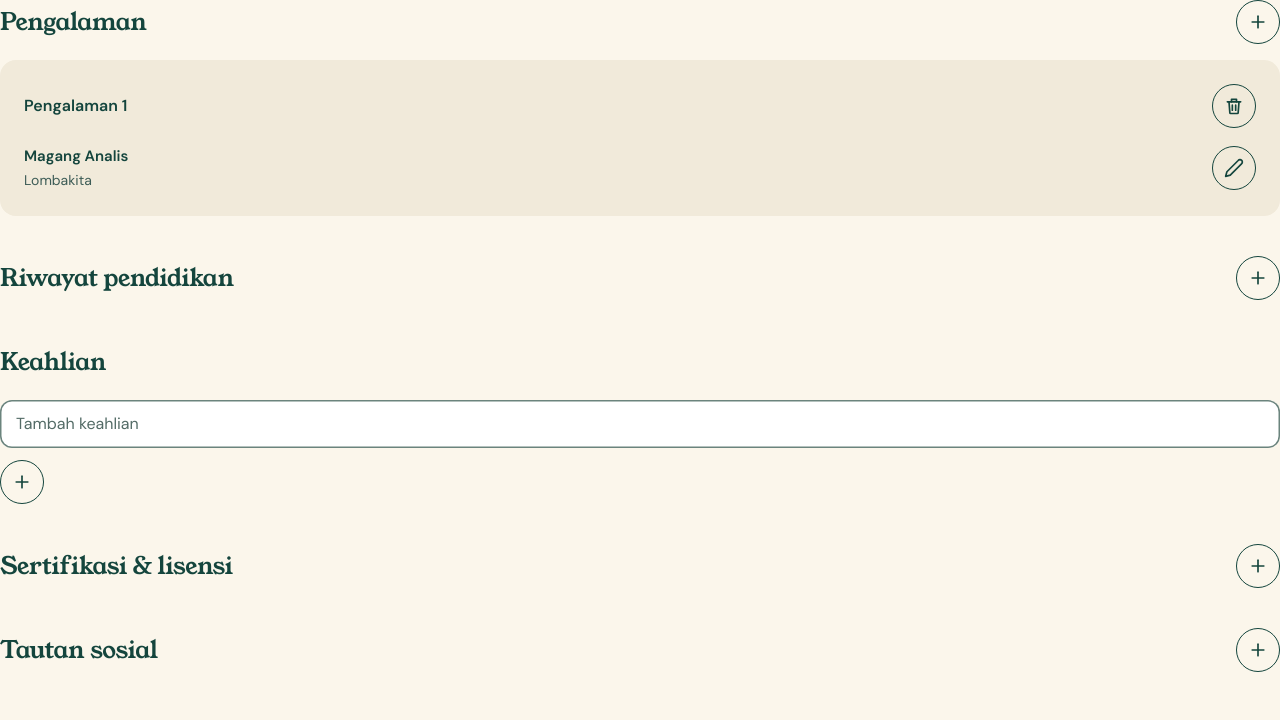
Test: deleting a saved profile entry › keeps the entry and shows the failure inside the pop-up when the server refuses
What coordinates should you click on to do the following:
click the button named "Hapus pengalaman Magang Analis"
I would click on:
 (1234, 106)
Its box is [1212,84,1256,128].
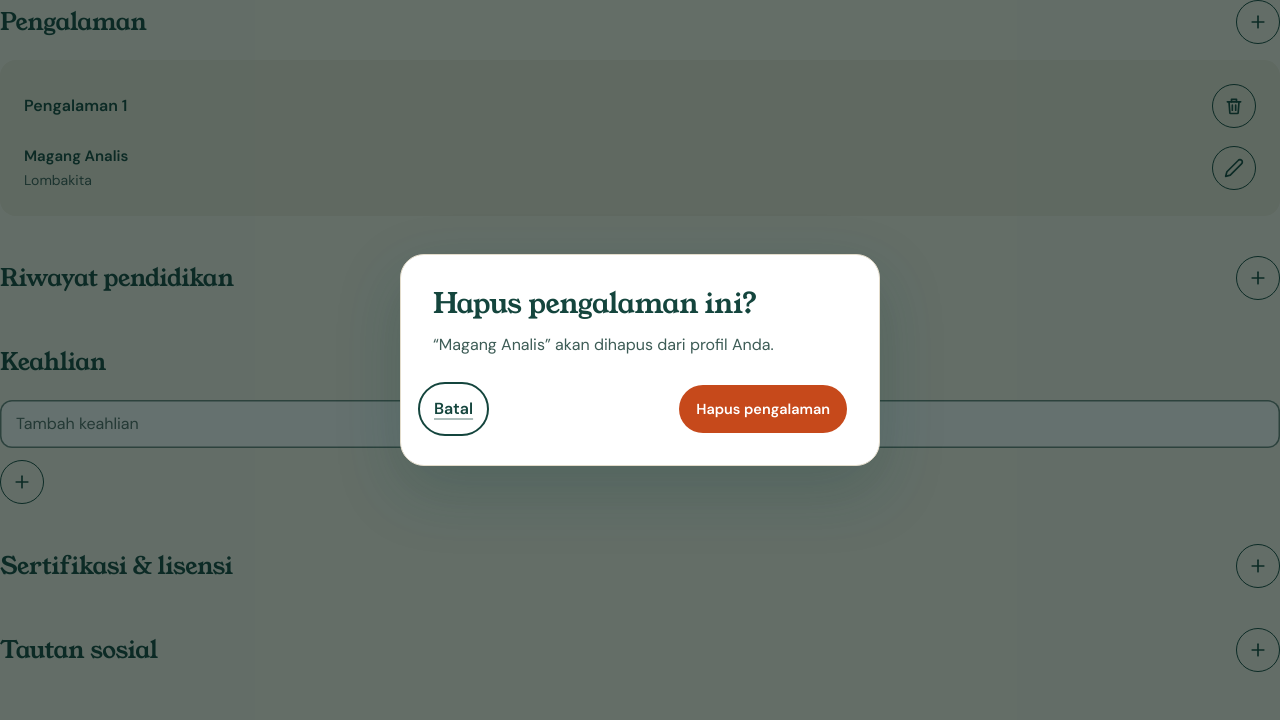
What coordinates should you click on to do the following:
click the button "Hapus pengalaman"
I would click on:
 (763, 409)
Its box is [679,385,847,433].
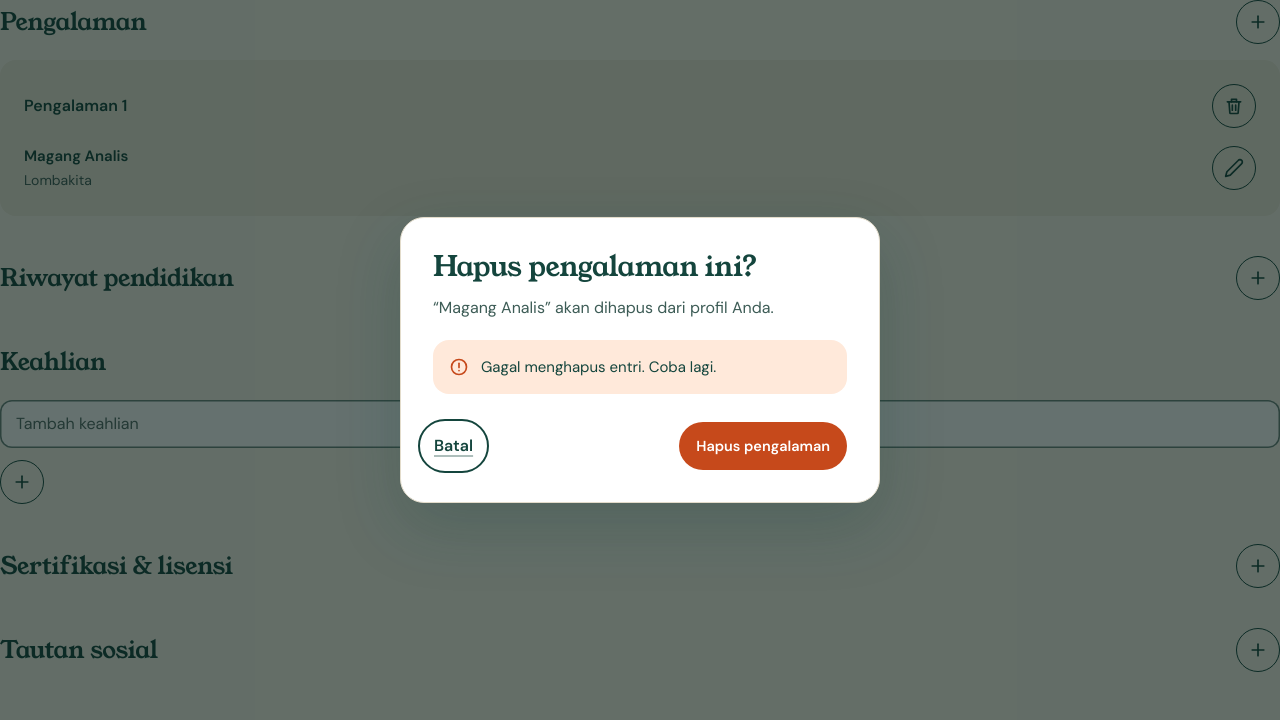
Expected: the button named "Hapus pengalaman Magang Analis" is shown, [1212,84,1256,128]
Result: the message reads "Gagal menghapus entri. Coba lagi." at [481,357,716,377]
